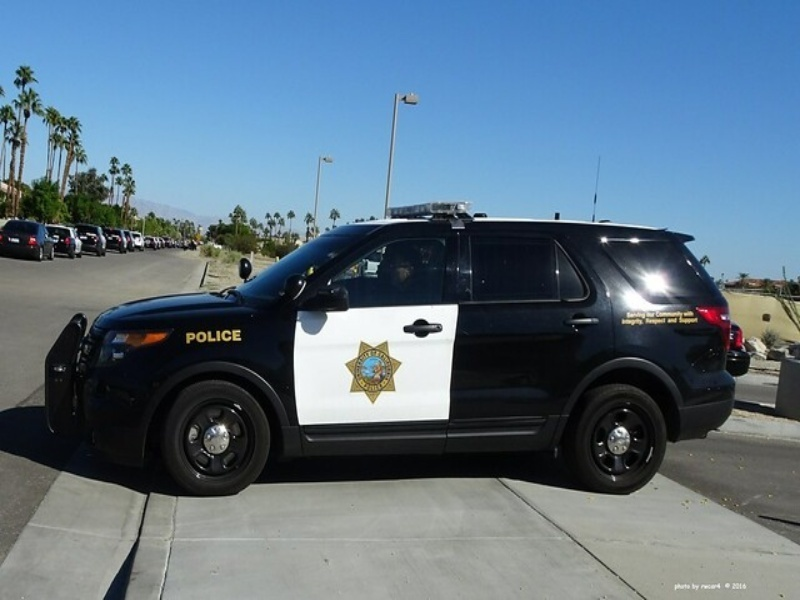policecar: (30, 143, 752, 515)
